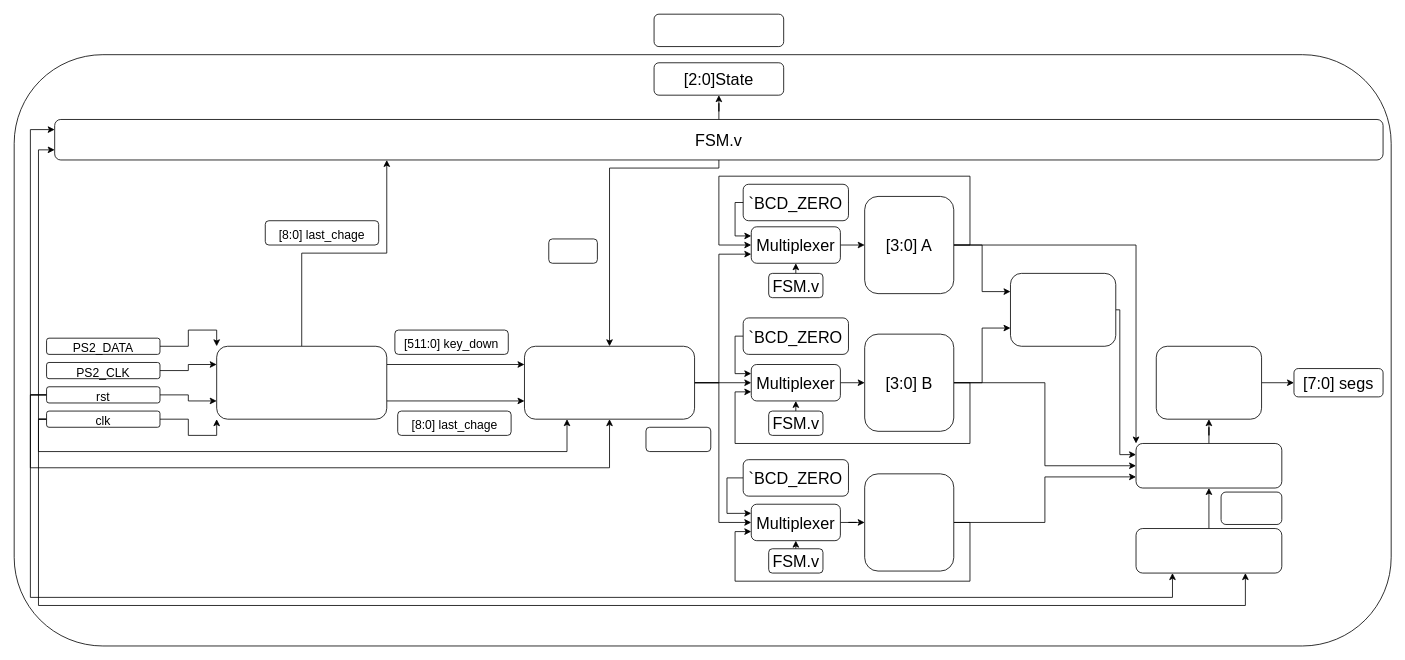
The diagram is 1405 pixels wide and 660 high, and some of its shapes have lost their labels. The centre of each missing label's shape, as x and y in pixels:
"[15:0] transfer" belongs at point 909,522.
"[3:0] out" belongs at point 678,439.
"BCD_Adder.v" belongs at point 1063,309.
"clk_2k" belongs at point 1251,507.
"clock_generator" belongs at point 1208,550.
"Display.v" belongs at point 1208,382.
"Keyboard" belongs at point 718,30.
"Keyboard_Decorder.v" belongs at point 301,382.
"Keyboard_Eecorder.v" belongs at point 609,382.
"ready" belongs at point 572,250.
"scan_ctl" belongs at point 1208,465.
